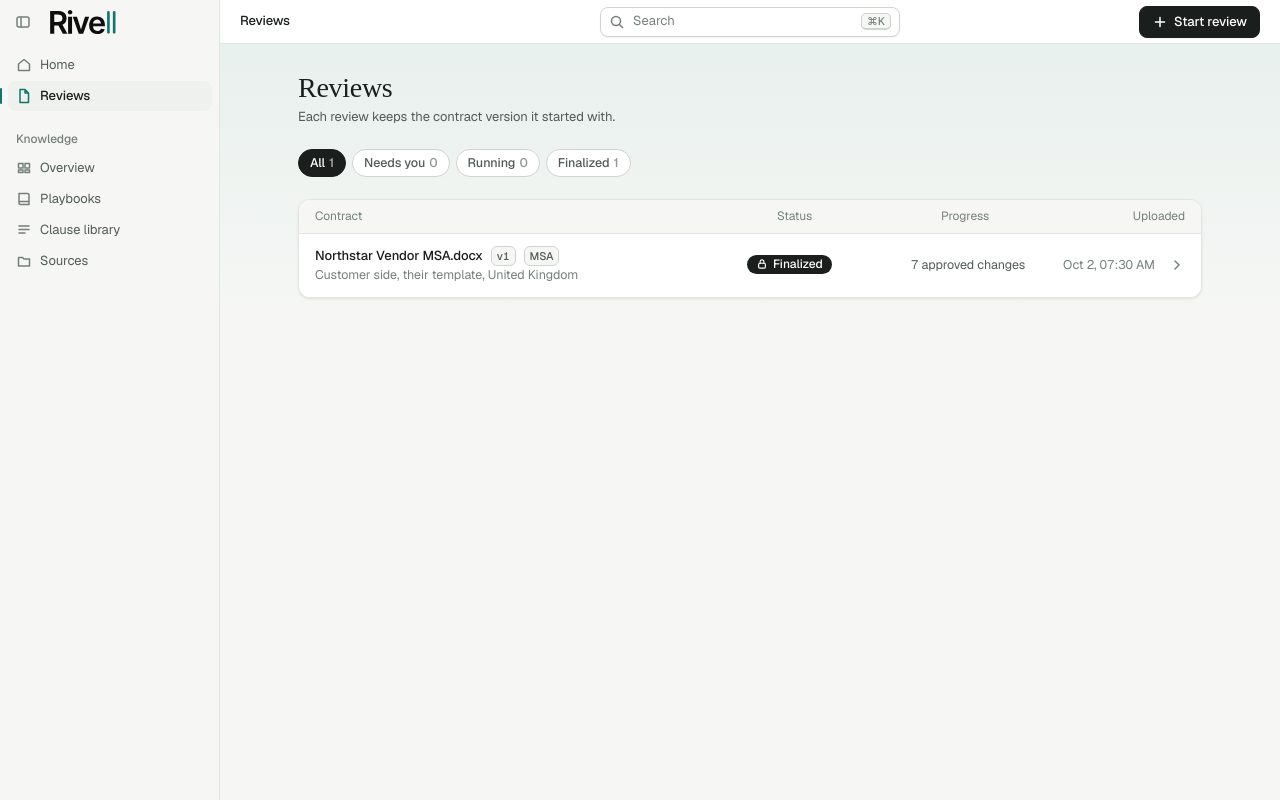
Scenario: Reviews page › says so when a filter has no loaded reviews
The width and height of the screenshot is (1280, 800).
Click the button "Needs you0". click: (401, 163)
box: x1=352 y1=149 x2=450 y2=177
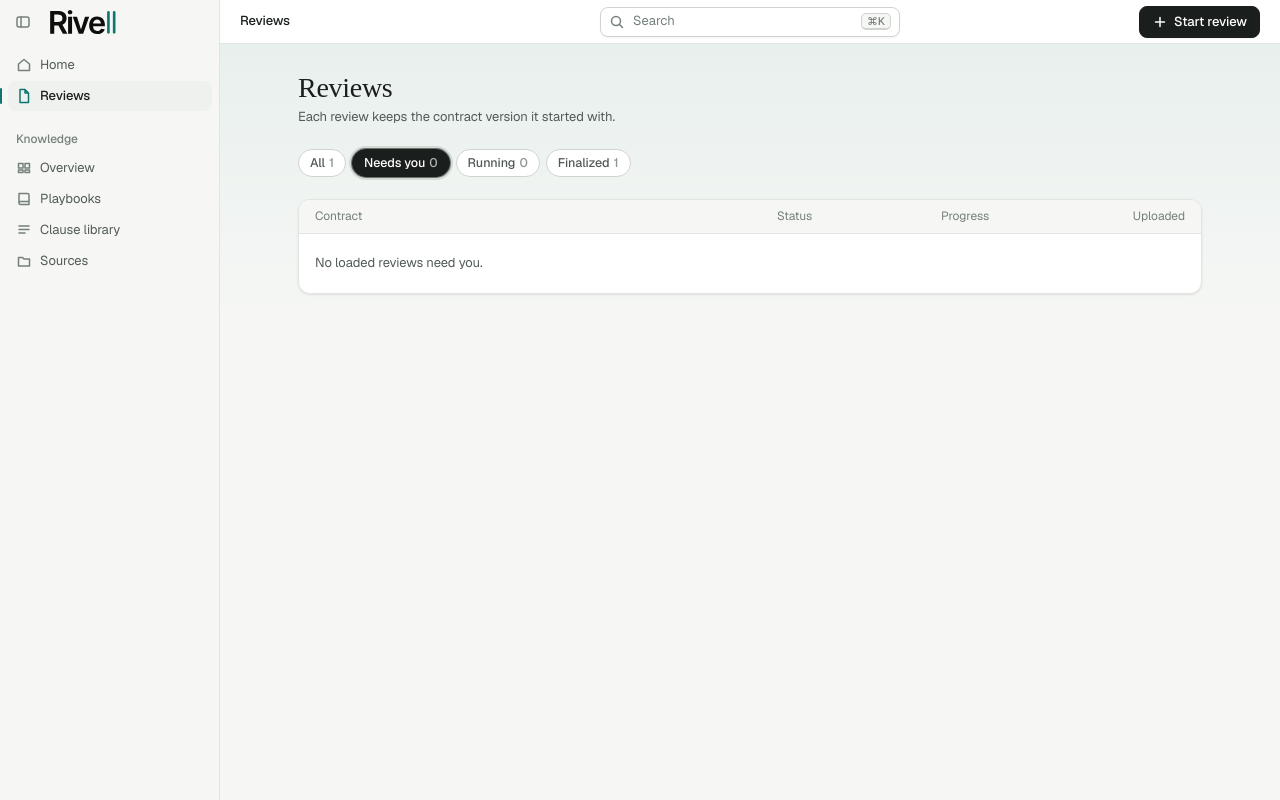
Expected: the text "No loaded reviews need you." is shown, x1=315 y1=254 x2=482 y2=271
